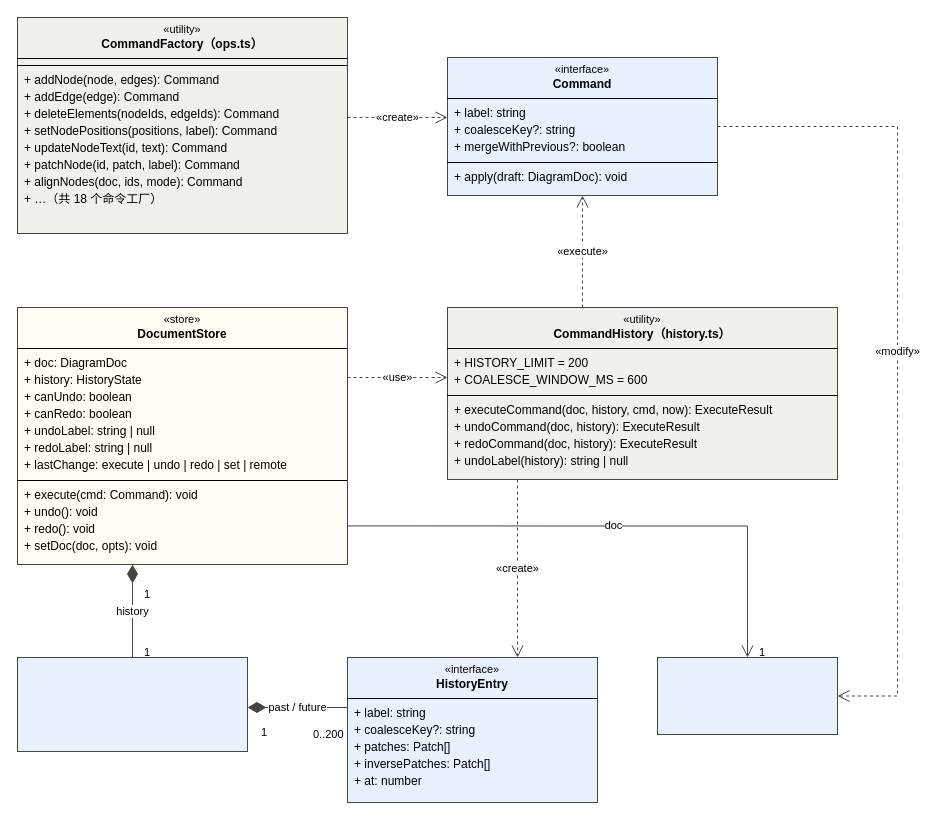
Some shapes in this 936 by 820 pixel diagram are drawn without their labels. Here are the shapes that lost their labels. From the top down, the centre of each, then its label:
the point at 132,704: «interface» HistoryState + past: HistoryEntry[] + future: HistoryEntry[]
the point at 747,695: «interface» DiagramDoc （属性见图5-1）
